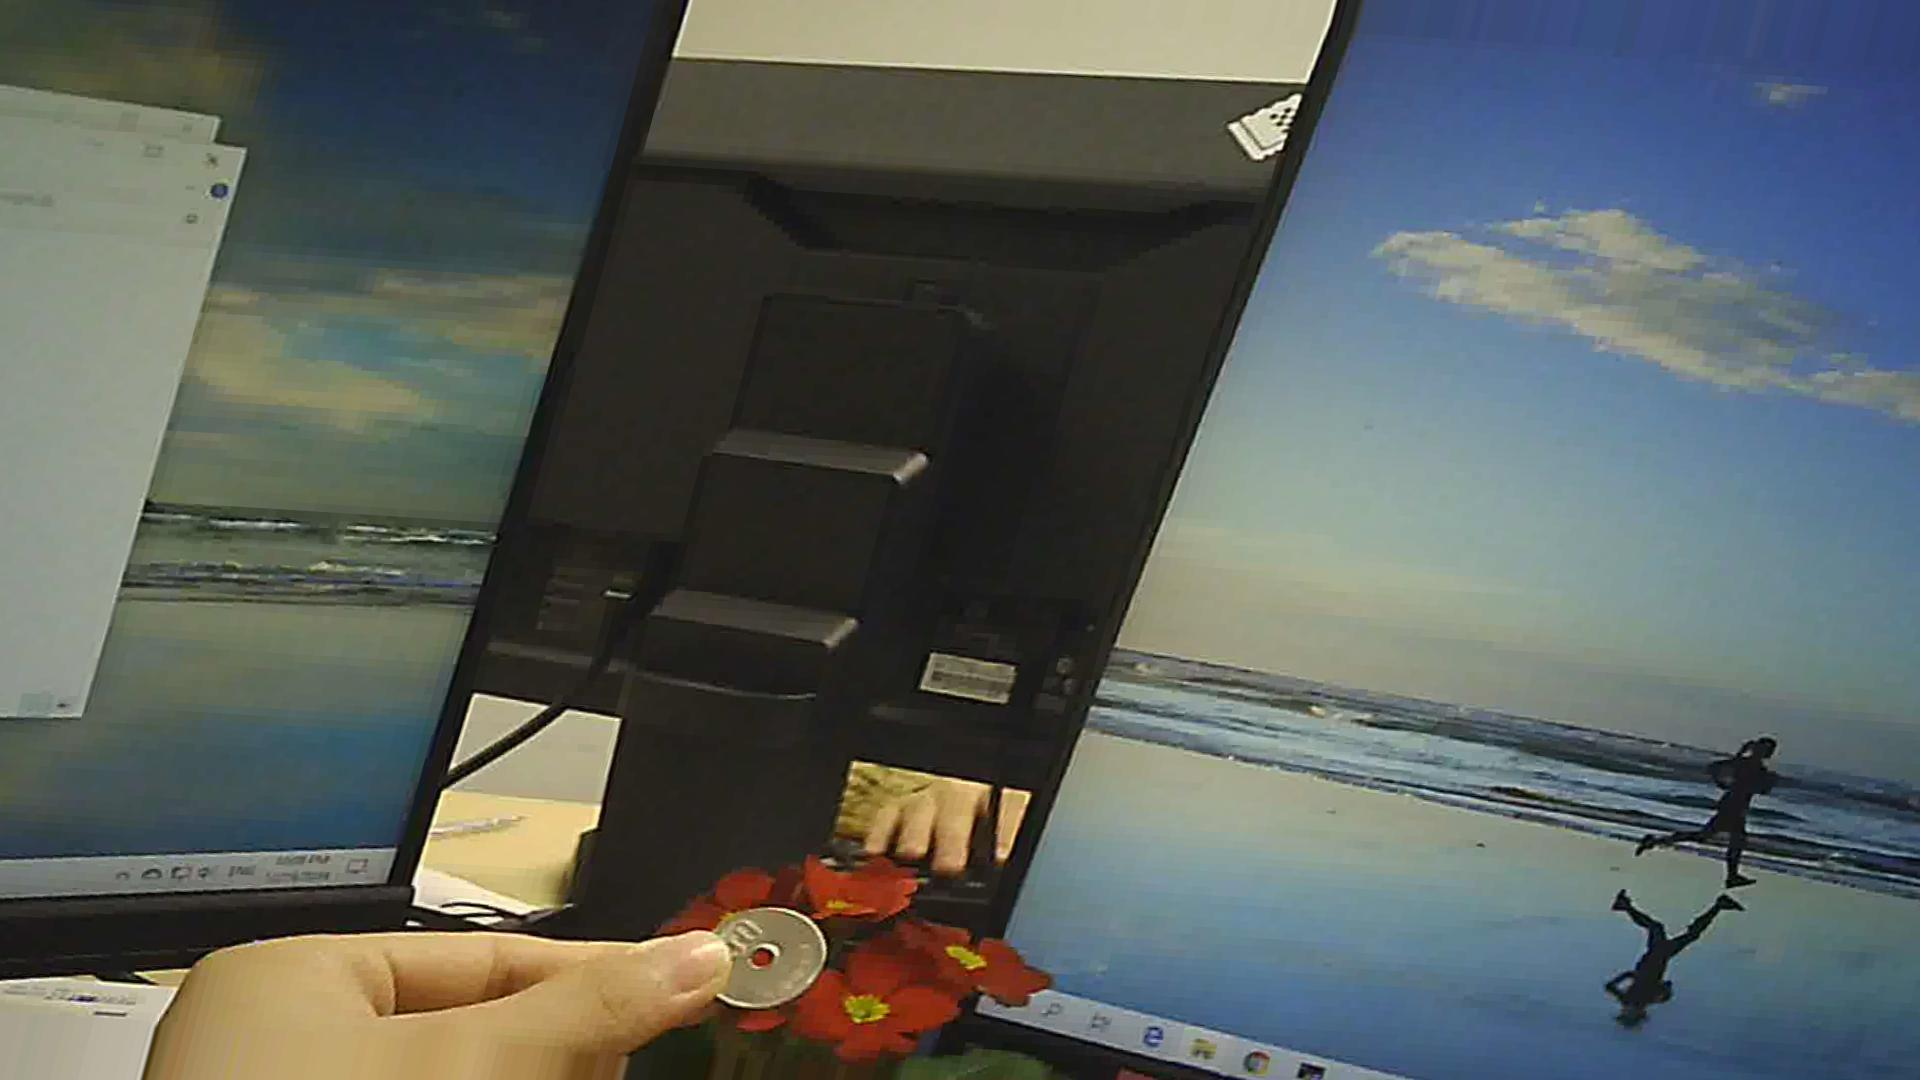50 Yen: (694, 906, 824, 1015)
